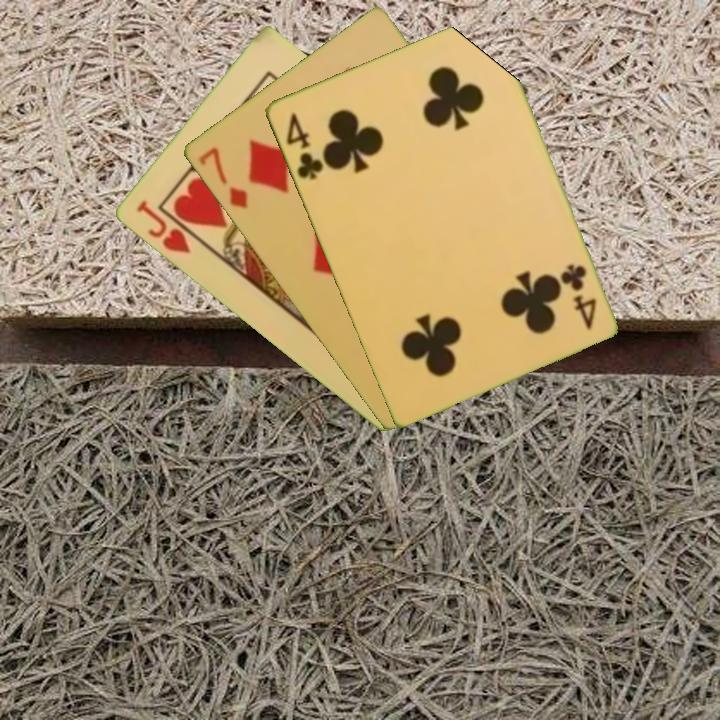4c: (282, 108, 326, 182), (557, 259, 599, 333)
7d: (194, 143, 250, 212)
Jh: (132, 197, 193, 257)
